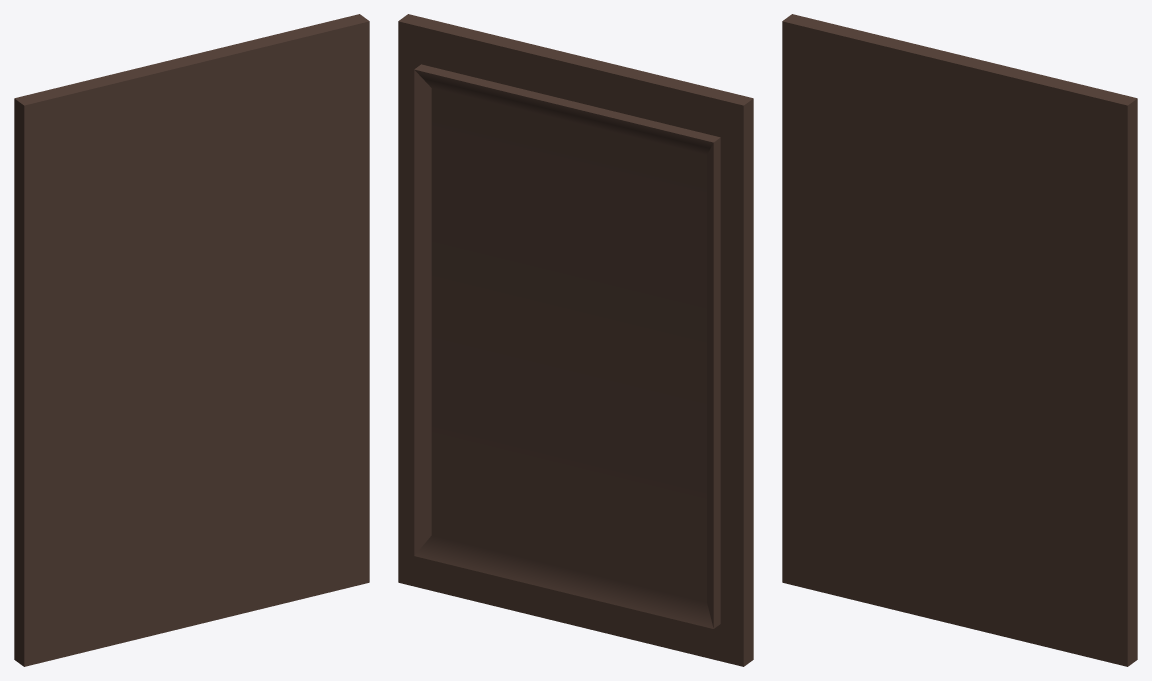
Rendered from photo_frame.fbx.
3 renders of one model, left to right at view 1: azimuth 30°, elevation 25°; view 2: azimuth 150°, elevation 25°; view 3: azimuth 330°, elevation 25°, orthographic.
Parts seen in each view (by area): view 1: frame; view 2: frame; view 3: frame.
Part boxes in pixels (x1,y1,x2,y2): frame: (14, 14, 369, 666); frame: (398, 14, 753, 666); frame: (782, 14, 1137, 666).
Size of the model in its own units: 5.9 by 9.16 by 0.5042.
